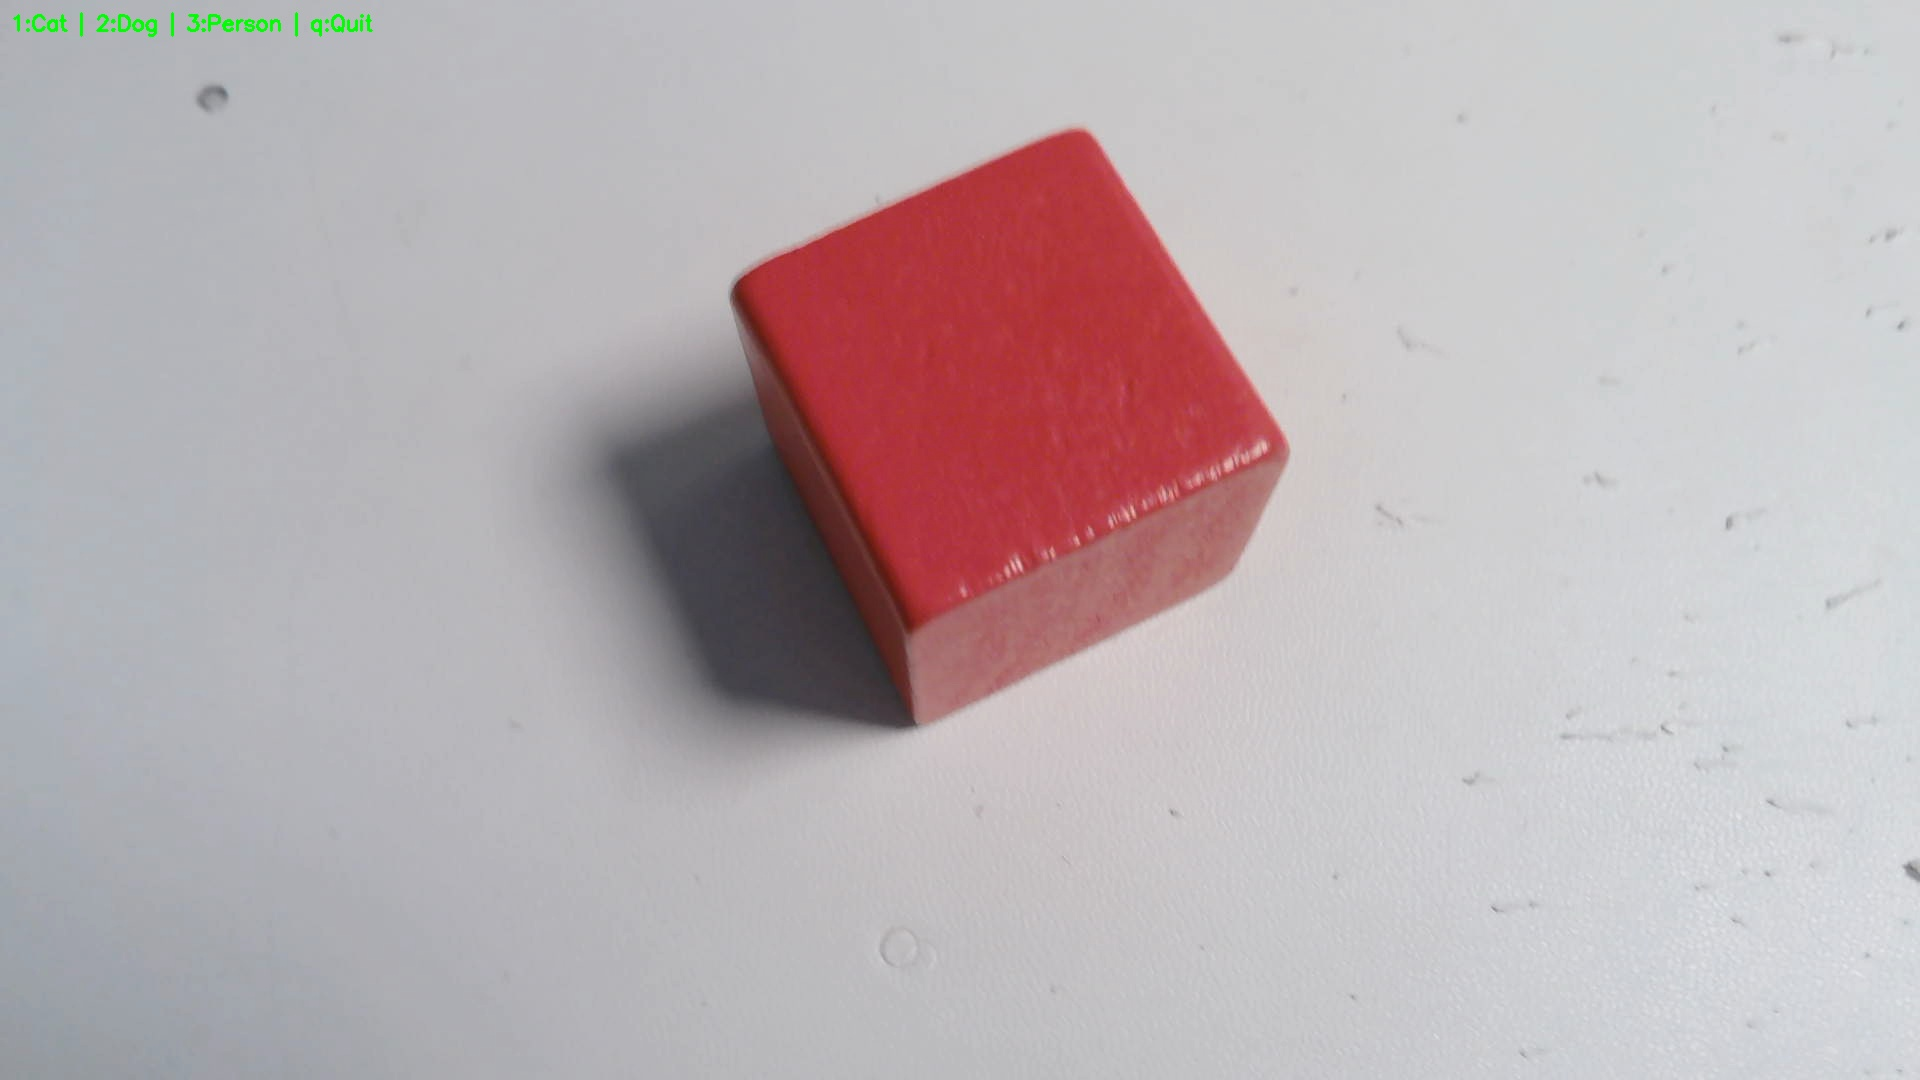red: (727, 129, 1288, 729)
